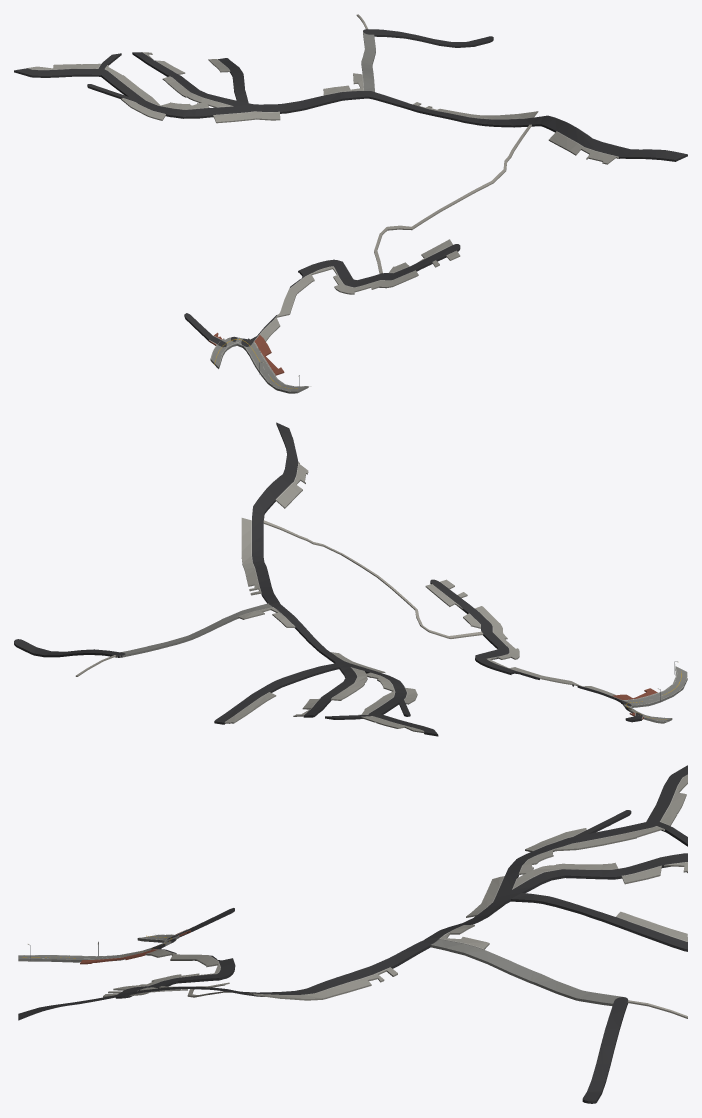
3 renders of one model, top to bottom at view 1: azimuth 30°, elevation 25°; view 2: azimuth 150°, elevation 25°; view 3: azimuth 270°, elevation 25°, orthographic. The views are drawn at different scales.
Bounding box in the file's own units: 293 × 91.91 × 293.
